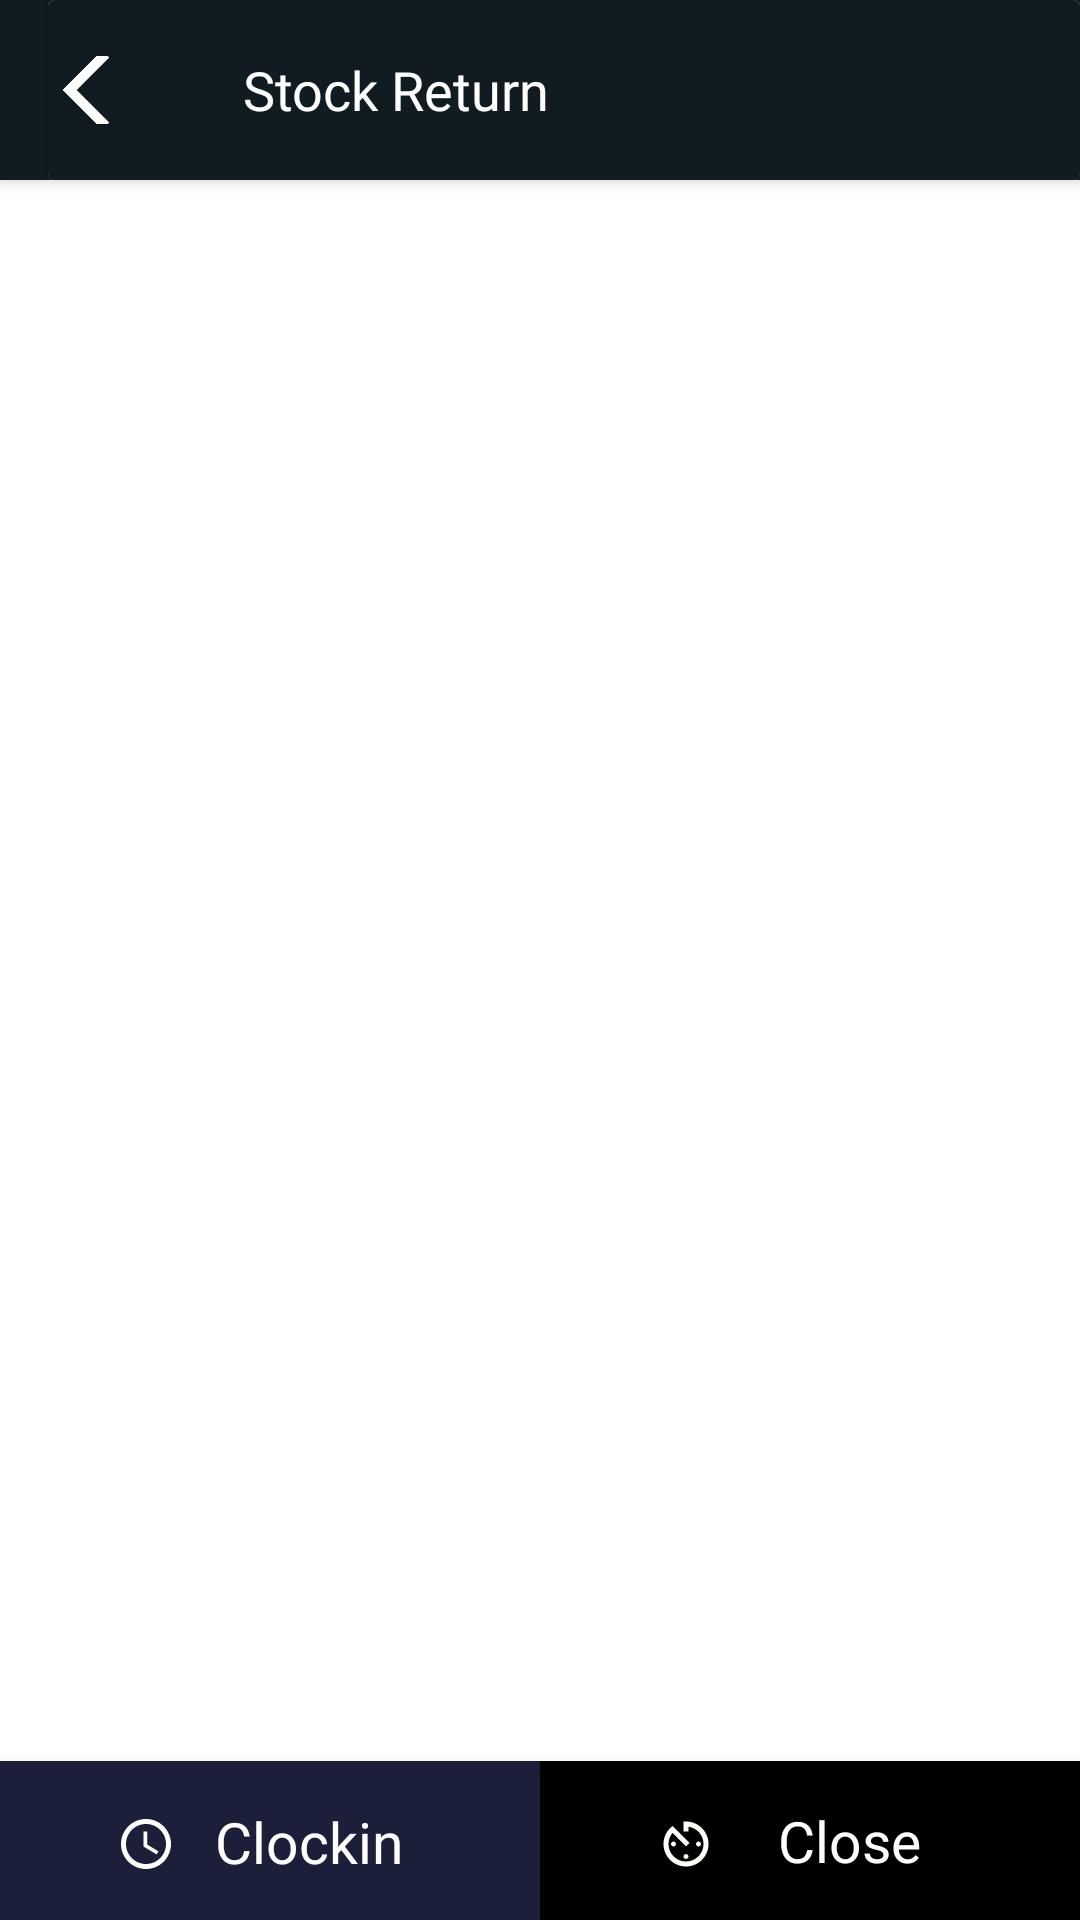

Locate icon controls on the screen. Image size 1080×1920, boxes as detection(x1, y1, x2, y2).
arrow: detection(63, 56, 109, 124)
clock out: detection(663, 1821, 709, 1867)
